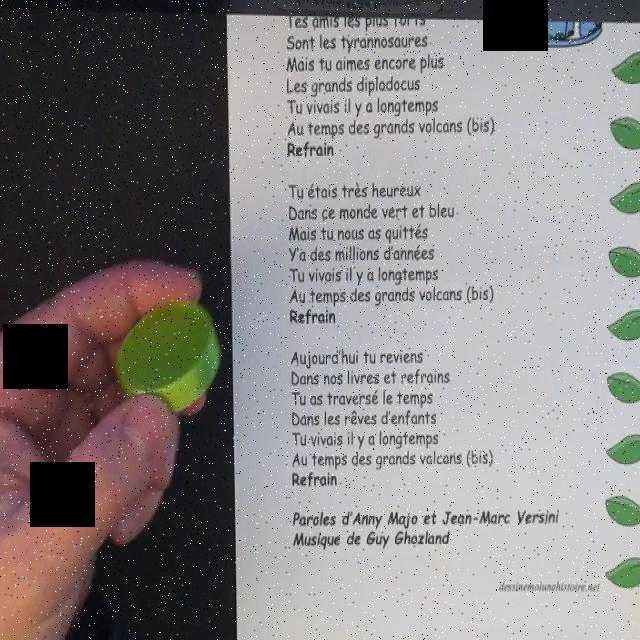round: (115, 300, 222, 412)
